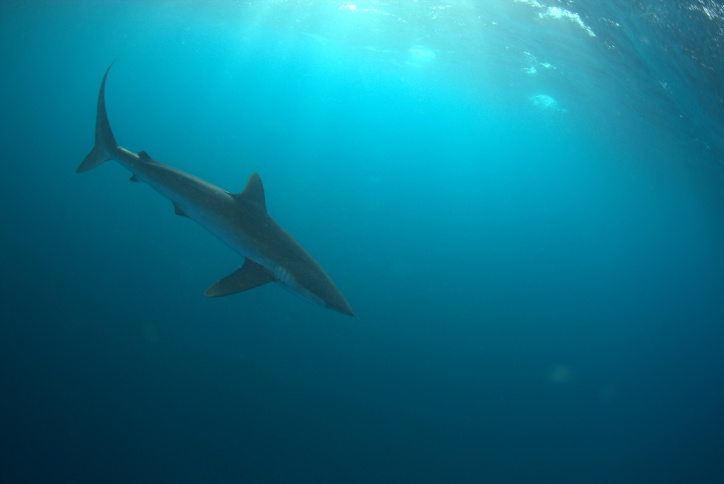Sedoso: (68, 46, 366, 326)
